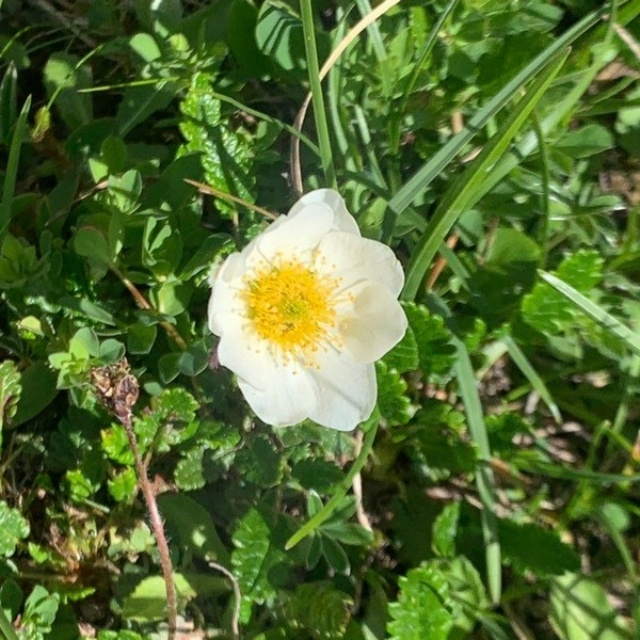obstacle: (79, 59, 591, 515)
